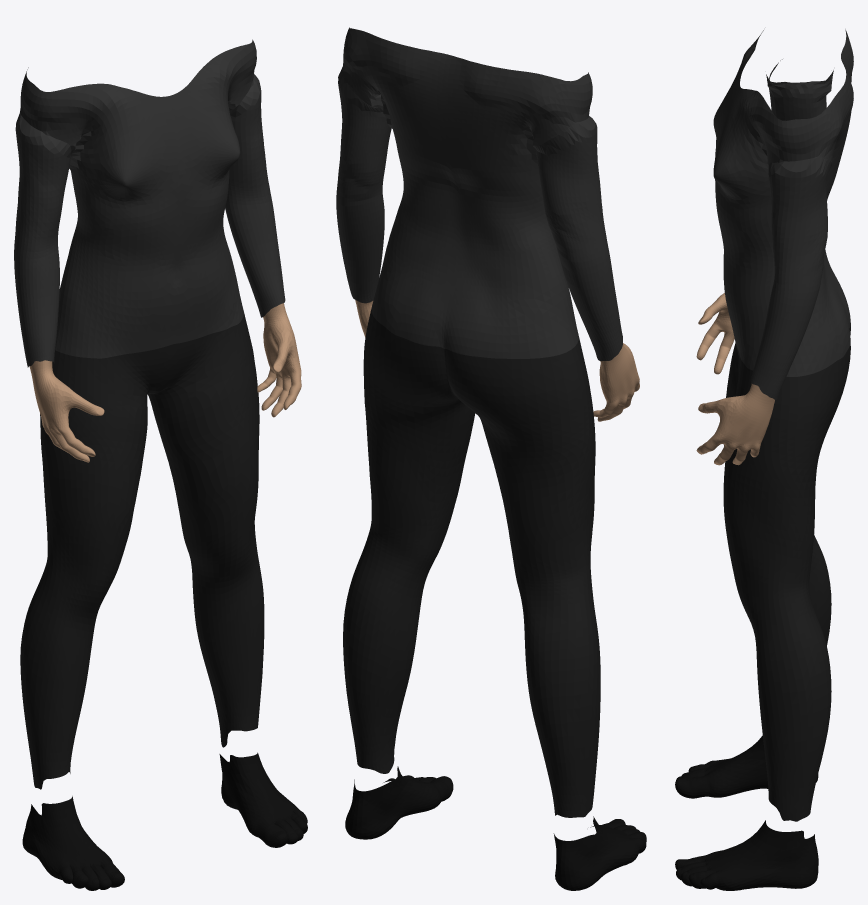
The model's file is hd_f_medium_body.glb.
3 renders of one model, left to right at view 1: azimuth 30°, elevation 25°; view 2: azimuth 150°, elevation 25°; view 3: azimuth 270°, elevation 25°, orthographic. The views are drawn at different scales.
Visible parts, largest first — view 1: outfit, shoes, bodyskin; view 2: outfit, shoes, bodyskin; view 3: outfit, shoes, bodyskin.
Part boxes in pixels (left/top/right/bottom): outfit: left=14, top=39, right=285, bottom=789; shoes: left=22, top=752, right=307, bottom=890; bodyskin: left=29, top=303, right=301, bottom=462; outfit: left=336, top=27, right=622, bottom=817; shoes: left=345, top=766, right=646, bottom=890; bodyskin: left=355, top=300, right=639, bottom=421; outfit: left=713, top=29, right=853, bottom=821; shoes: left=675, top=735, right=818, bottom=890; bodyskin: left=696, top=293, right=774, bottom=465.
Bounding box in the file's own units: 0.4836 × 1.41 × 0.2925.
